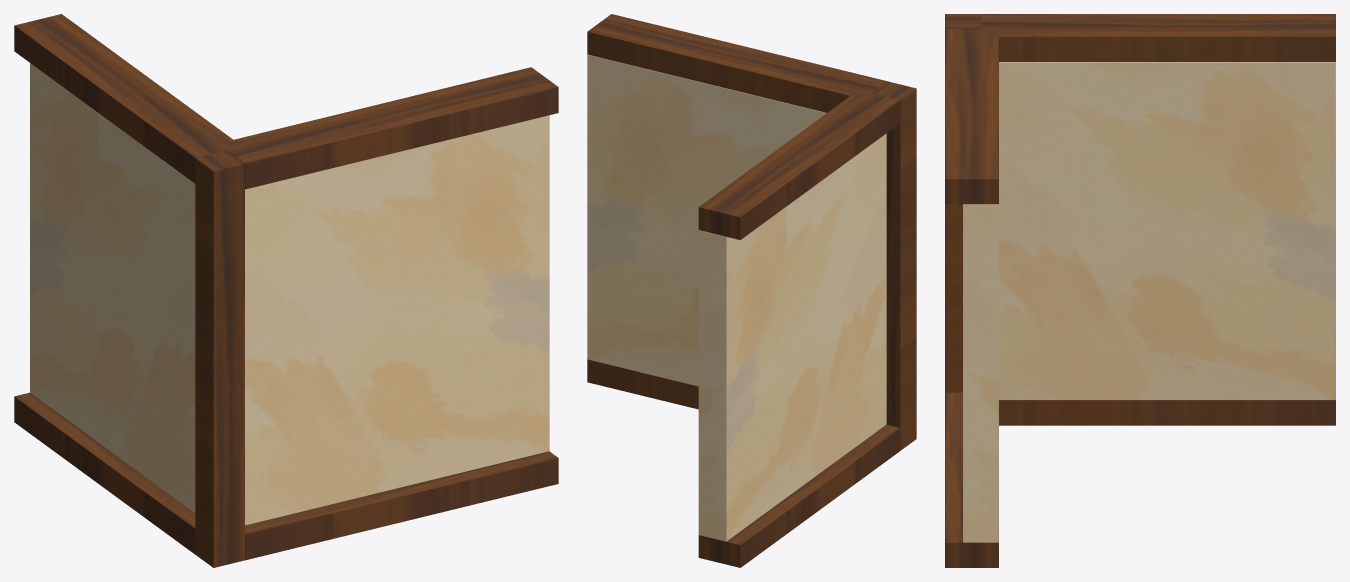
Rendered from CM_FacadeBay01_Corner90.fbx.
3 views of the same model, side by side, from view 1: azimuth 30°, elevation 25°; view 2: azimuth 150°, elevation 25°; view 3: azimuth 270°, elevation 25° (orthographic). The views are drawn at different scales.
Visible parts, largest first — view 1: CM_FacadeBay01_Corner90_PlasterFront, CM_FacadeBay01_Corner90_PlasterSide, CM_FacadeBay01_Corner90_Post, CM_FacadeBay01_Corner90_RailFront3.13, CM_FacadeBay01_Corner90_RailSide3.13, CM_FacadeBay01_Corner90_RailFront0, CM_FacadeBay01_Corner90_RailSide0; view 2: CM_FacadeBay01_Corner90_PlasterSide, CM_FacadeBay01_Corner90_PlasterFront, CM_FacadeBay01_Corner90_RailFront3.13, CM_FacadeBay01_Corner90_RailSide3.13, CM_FacadeBay01_Corner90_Post, CM_FacadeBay01_Corner90_RailSide0, CM_FacadeBay01_Corner90_RailFront0; view 3: CM_FacadeBay01_Corner90_PlasterSide, CM_FacadeBay01_Corner90_RailSide3.13, CM_FacadeBay01_Corner90_PlasterFront, CM_FacadeBay01_Corner90_RailFront3.13, CM_FacadeBay01_Corner90_RailSide0, CM_FacadeBay01_Corner90_RailFront0, CM_FacadeBay01_Corner90_Post.
Boxes of the visible parts, x1,y1,x2,y2 form: CM_FacadeBay01_Corner90_PlasterFront: (245, 115, 549, 525); CM_FacadeBay01_Corner90_PlasterSide: (30, 63, 195, 512); CM_FacadeBay01_Corner90_Post: (195, 150, 244, 567); CM_FacadeBay01_Corner90_RailFront3.13: (227, 67, 558, 189); CM_FacadeBay01_Corner90_RailSide3.13: (14, 14, 233, 183); CM_FacadeBay01_Corner90_RailFront0: (245, 451, 558, 560); CM_FacadeBay01_Corner90_RailSide0: (14, 392, 195, 554); CM_FacadeBay01_Corner90_PlasterSide: (698, 133, 886, 541); CM_FacadeBay01_Corner90_PlasterFront: (587, 54, 826, 386); CM_FacadeBay01_Corner90_RailFront3.13: (587, 14, 888, 112); CM_FacadeBay01_Corner90_RailSide3.13: (698, 93, 900, 239); CM_FacadeBay01_Corner90_Post: (873, 81, 916, 450); CM_FacadeBay01_Corner90_RailSide0: (698, 424, 900, 567); CM_FacadeBay01_Corner90_RailFront0: (587, 359, 698, 409); CM_FacadeBay01_Corner90_PlasterSide: (999, 62, 1335, 399); CM_FacadeBay01_Corner90_RailSide3.13: (981, 14, 1335, 61); CM_FacadeBay01_Corner90_PlasterFront: (963, 204, 998, 542); CM_FacadeBay01_Corner90_RailFront3.13: (945, 29, 998, 204); CM_FacadeBay01_Corner90_RailSide0: (999, 400, 1335, 425); CM_FacadeBay01_Corner90_RailFront0: (945, 392, 998, 567); CM_FacadeBay01_Corner90_Post: (945, 14, 980, 392).
Size of the model in its own units: 3.05 by 3.35 by 3.05.
